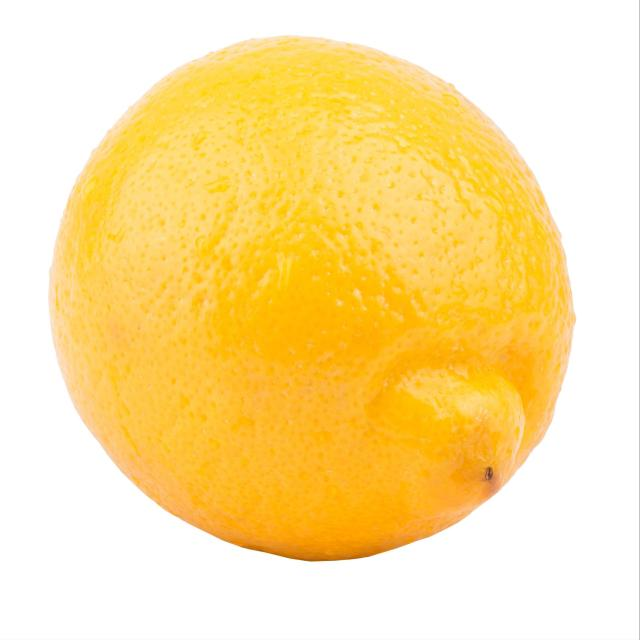lemon: (38, 22, 589, 572)
